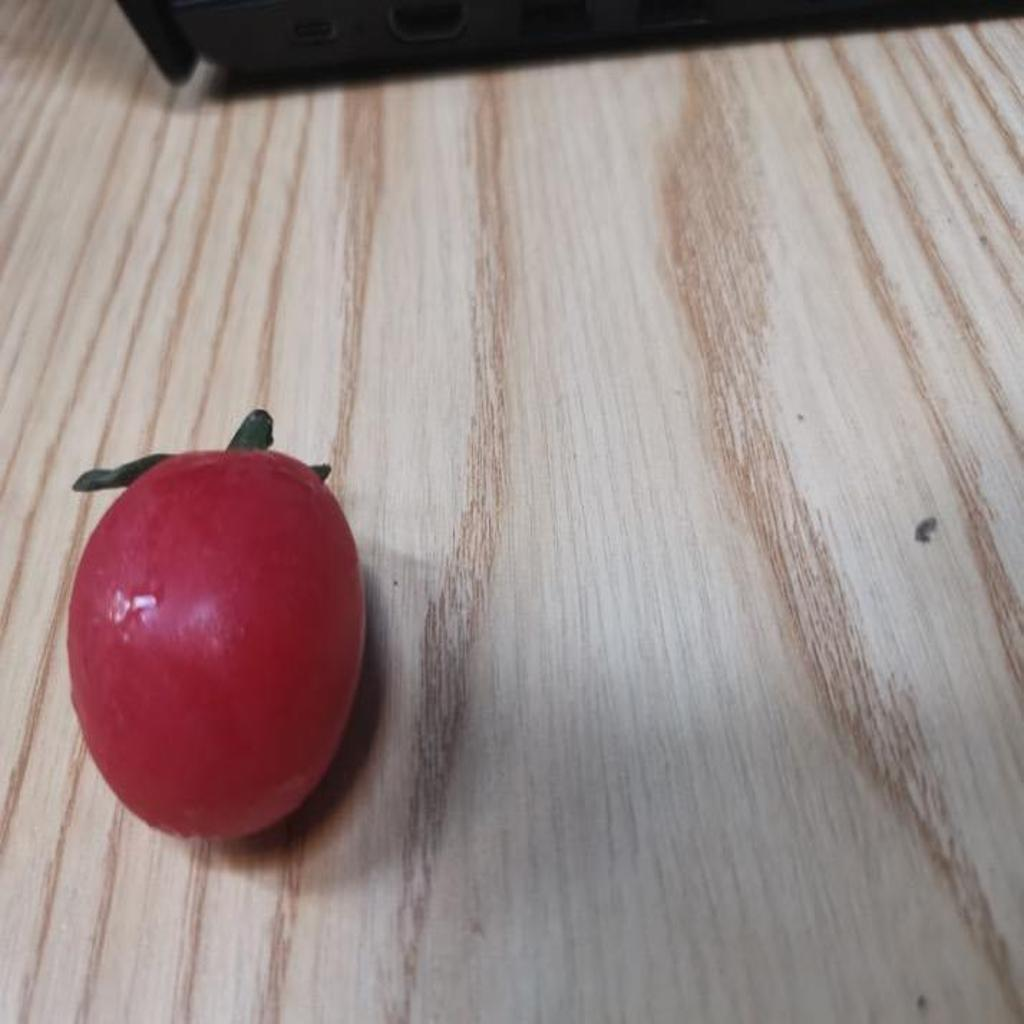tomato: (73, 433, 371, 858)
